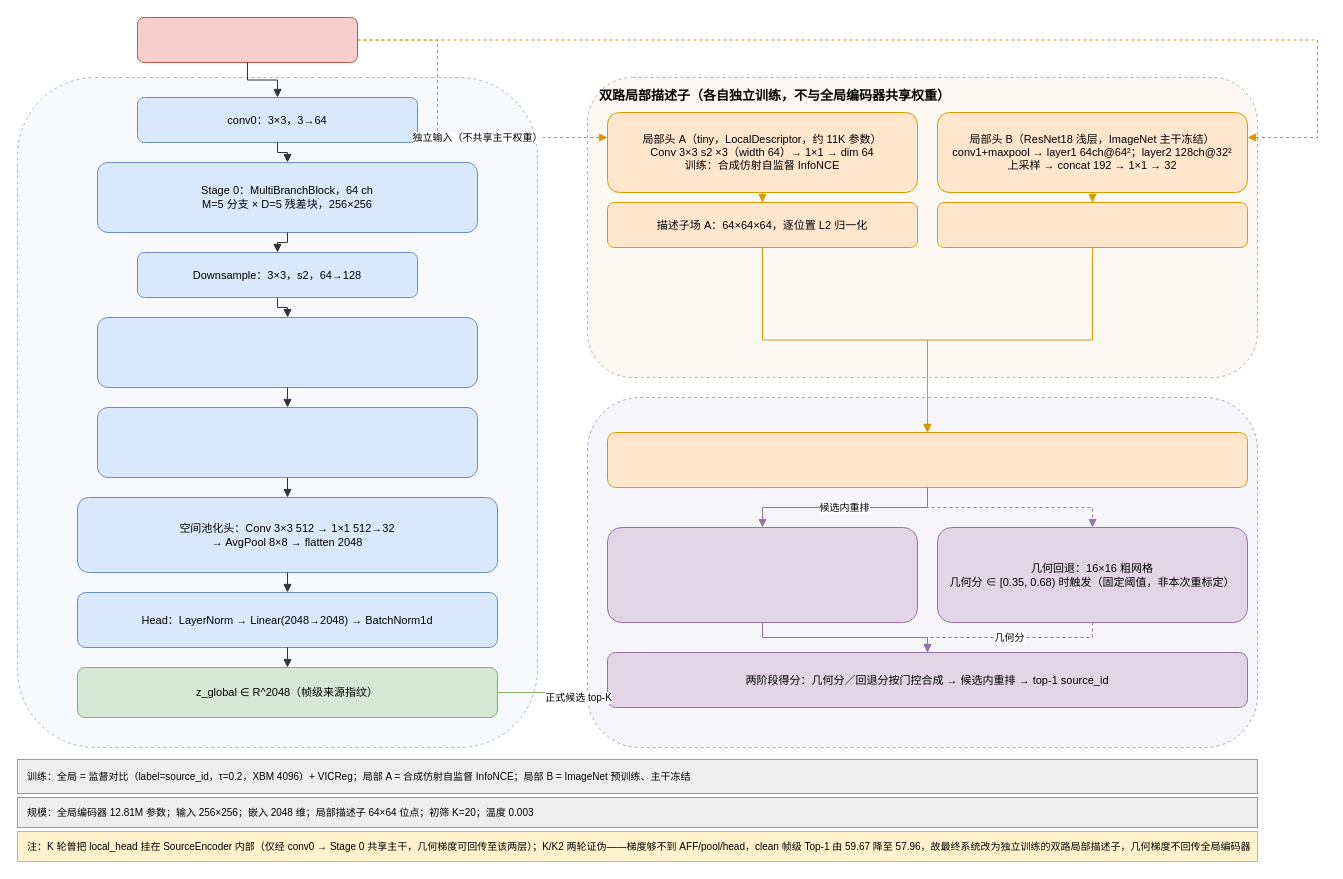
This 1343x879 diagram has some shape labels left out. Each missing label, with the box of its shape:
AFF 多尺度注意力融合，512 ch @ 256×256 （全段 fp32，防 fp16 溢出）: (96, 406, 478, 478)
Stage 1：MultiBranchBlock，128 ch，128×128: (96, 316, 478, 388)
z-score 融合（0.5 / 0.5）｜门控：某一路批内 std < 0.10 时只用第二路: (606, 432, 1248, 488)
全局编码器（I-best）: (16, 76, 538, 748)
可微几何校验 软互最近邻 → 可微 DLT → 软内点占比（σ=0.2）: (606, 526, 918, 622)
描述子场 B：64×64×32，逐位置 L2 归一化: (936, 202, 1248, 248)
融合 / 几何校验 / 打分: (586, 396, 1258, 748)
输入伪造帧 256×256×3: (136, 16, 358, 62)
